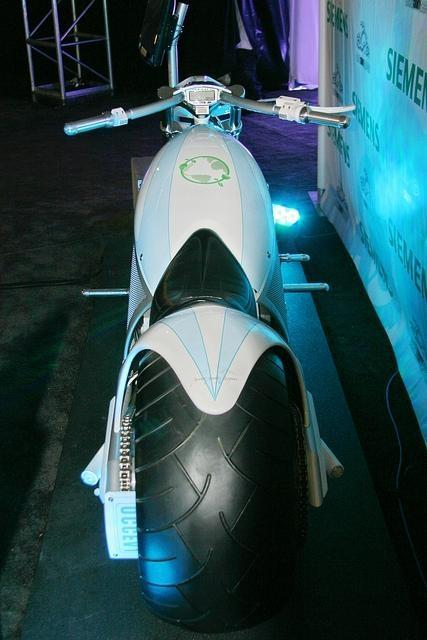motorcycle: (56, 84, 362, 632)
